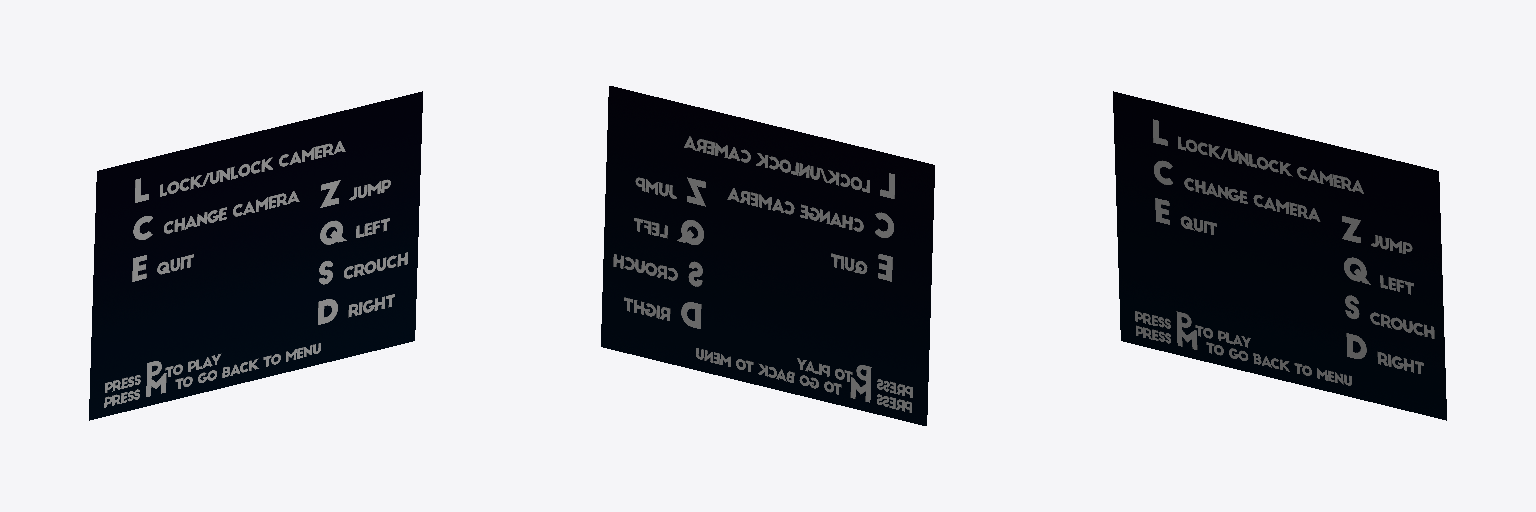
3 views of the same model, side by side, from view 1: azimuth 30°, elevation 25°; view 2: azimuth 150°, elevation 25°; view 3: azimuth 330°, elevation 25° (orthographic).
Parts seen in each view (by area): view 1: Plane; view 2: Plane; view 3: Plane.
Boxes of the visible parts, <box> form: Plane: <box>89,91,422,420</box>; Plane: <box>601,86,934,425</box>; Plane: <box>1113,91,1446,420</box>.
Bounding box in the file's own units: 80 × 59.9 × 3.43.
Materials: 1 (1 with a texture image).